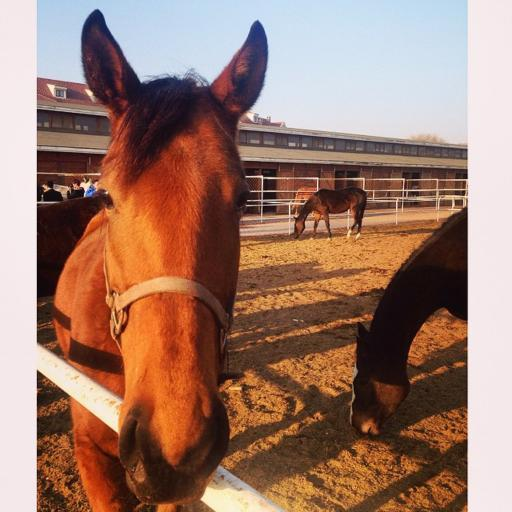horse: (50, 6, 268, 512), (349, 202, 472, 437), (294, 188, 368, 246)
